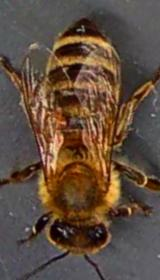varroa_mite: (44, 110, 70, 132)
